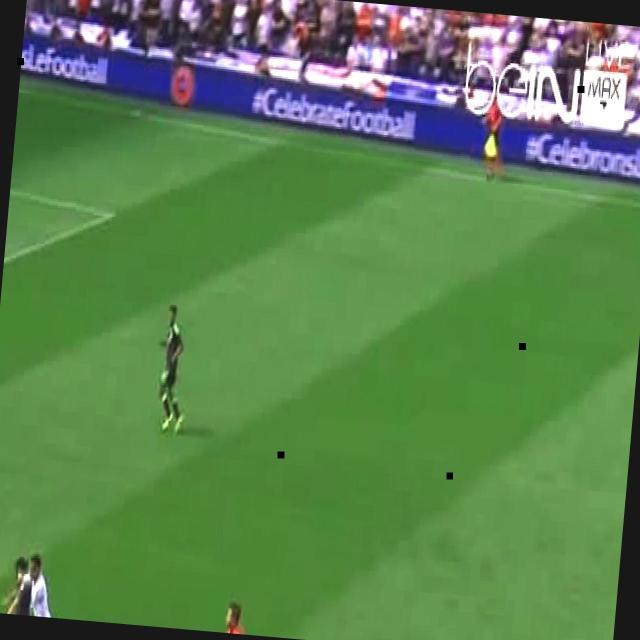player-white: (150, 302, 194, 436), (19, 553, 73, 619), (206, 596, 278, 638), (0, 554, 35, 616), (481, 95, 505, 179)
